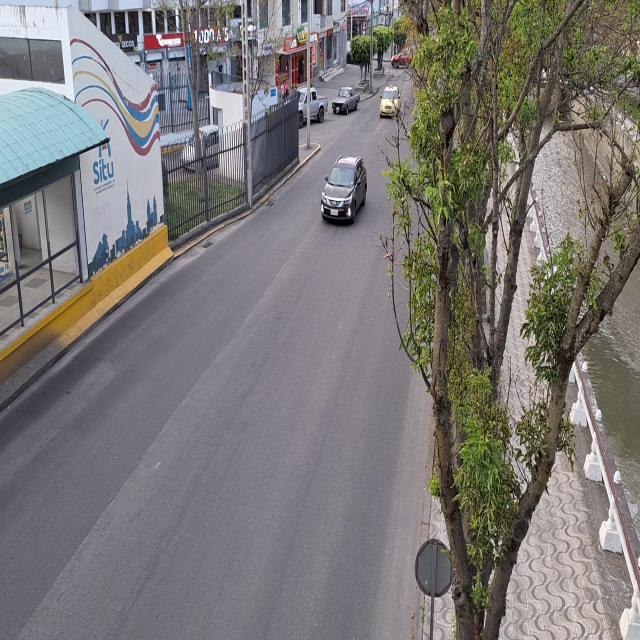CMT: (298, 88, 328, 121), (331, 85, 361, 116)
SED: (378, 80, 401, 119)
SUV: (320, 153, 367, 224)
